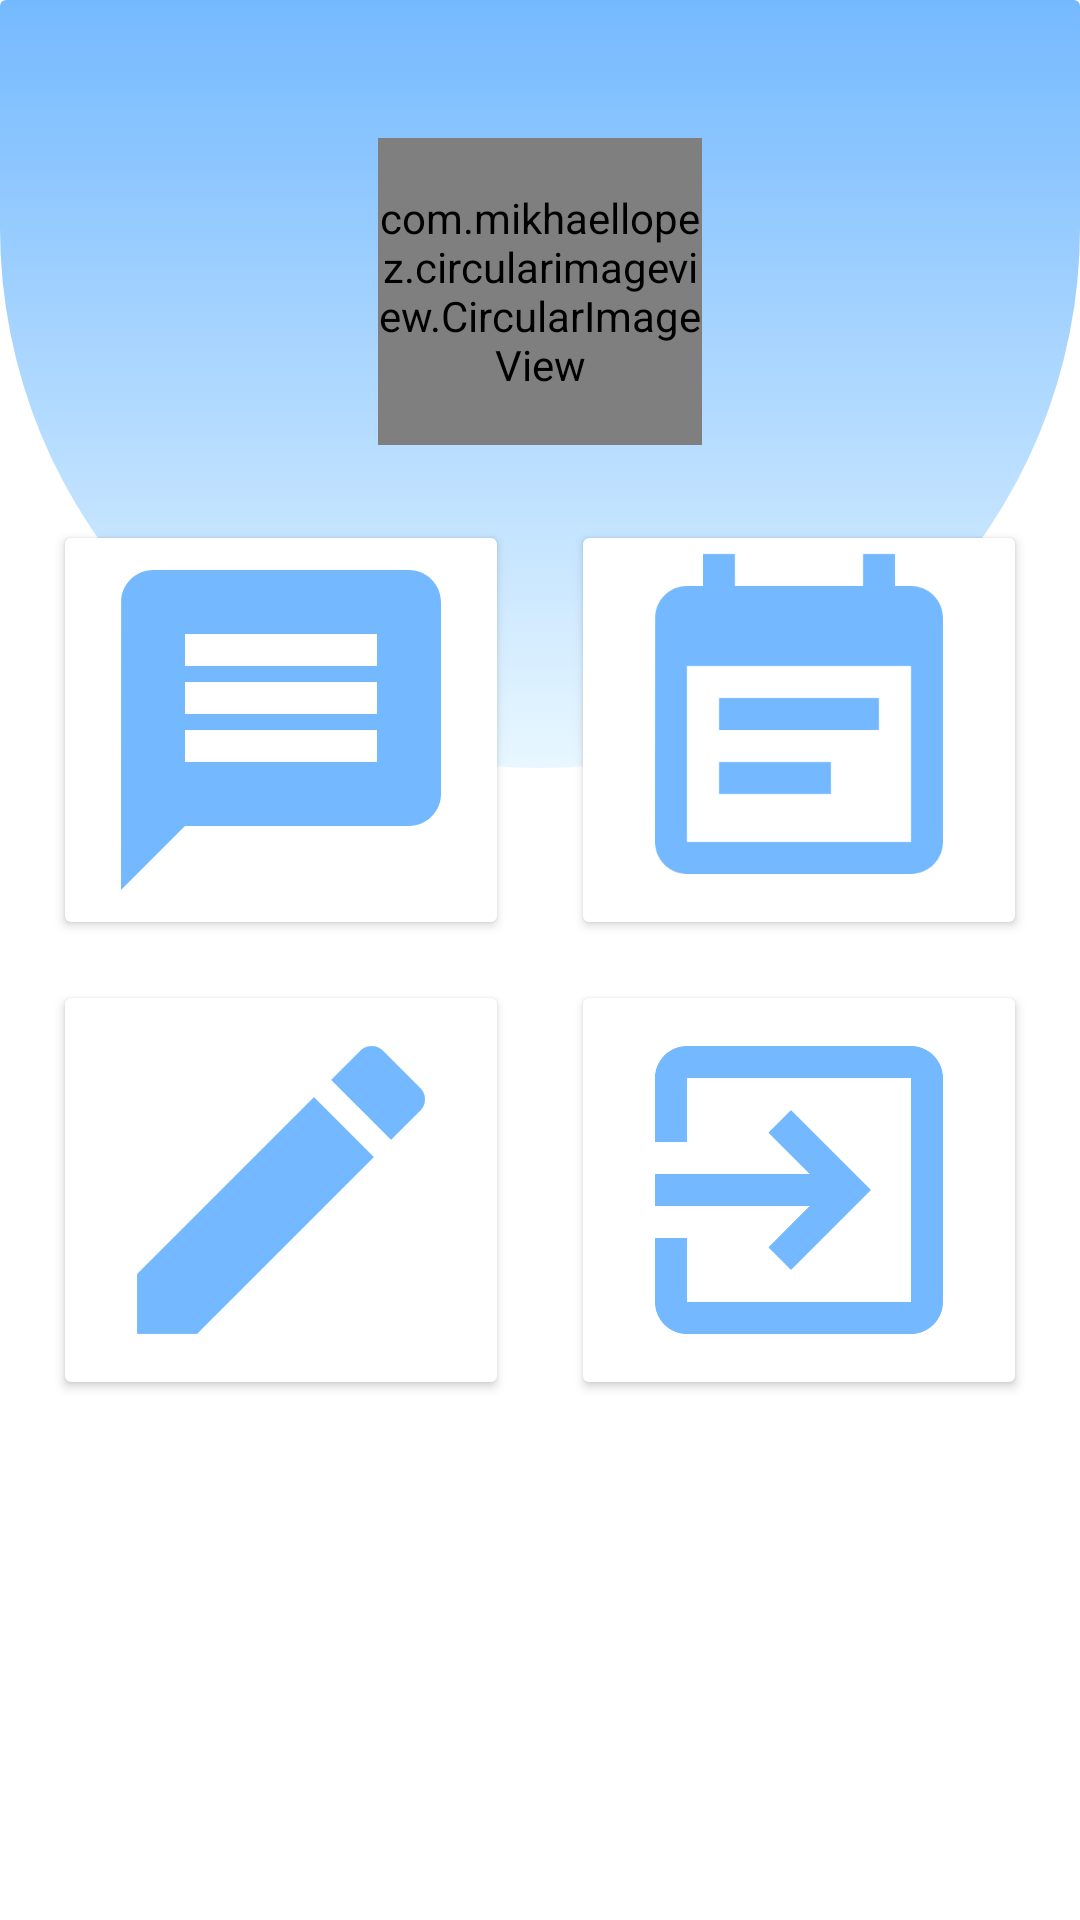

Where icons sit on this 1080*1920 app screen, as [x1,y1,x2,y2]:
event note: [655,554,943,874]
message: [121,570,441,890]
